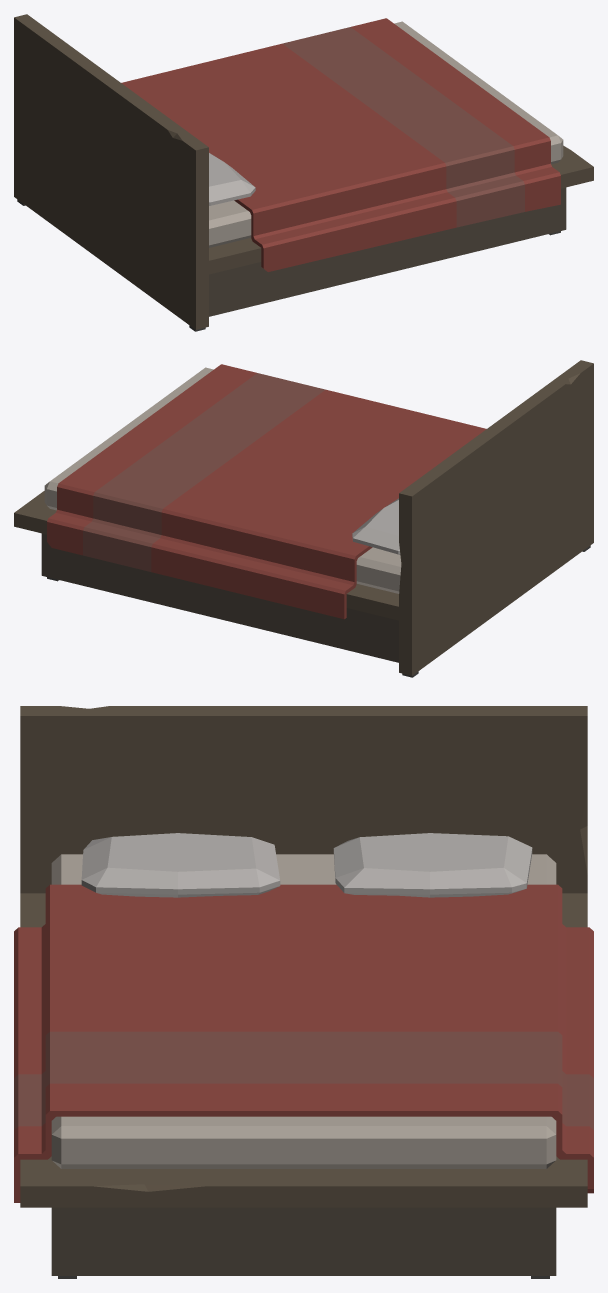
The model's file is SM_Props_Interior_House_Room_Bed_02.fbx.
The picture shows the model from 3 angles, top to bottom: view 1: azimuth 30°, elevation 25°; view 2: azimuth 150°, elevation 25°; view 3: azimuth 270°, elevation 25°; orthographic projection. The views are drawn at different scales.
Visible parts, largest first — view 1: SM_Props_Interior_House_Room_Bed_02; view 2: SM_Props_Interior_House_Room_Bed_02; view 3: SM_Props_Interior_House_Room_Bed_02.
Boxes of the visible parts, <box> form: SM_Props_Interior_House_Room_Bed_02: <box>14,14,593,331</box>; SM_Props_Interior_House_Room_Bed_02: <box>14,360,593,677</box>; SM_Props_Interior_House_Room_Bed_02: <box>14,706,593,1278</box>.
Bounding box in the file's own units: 227 × 100 × 184.
